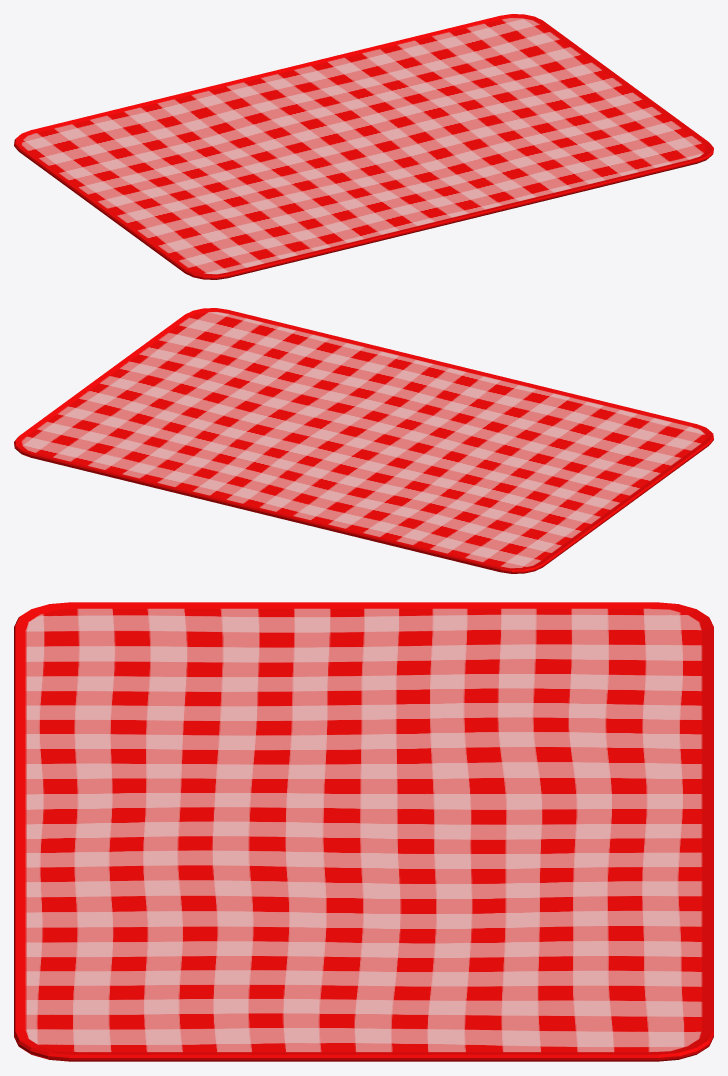
The model's file is blanket.fbx.
3 views of the same model, one above another, from view 1: azimuth 30°, elevation 25°; view 2: azimuth 150°, elevation 25°; view 3: azimuth 270°, elevation 25° (orthographic). The views are drawn at different scales.
Parts seen in each view (by area): view 1: Plane.001; view 2: Plane.001; view 3: Plane.001.
Part boxes in pixels (x1,y1,x2,y2): Plane.001: (14,14,713,279); Plane.001: (14,308,713,573); Plane.001: (14,602,713,1061).
Size of the model in its own units: 139 by 1 by 90.57.
2 materials, 2 textured.
